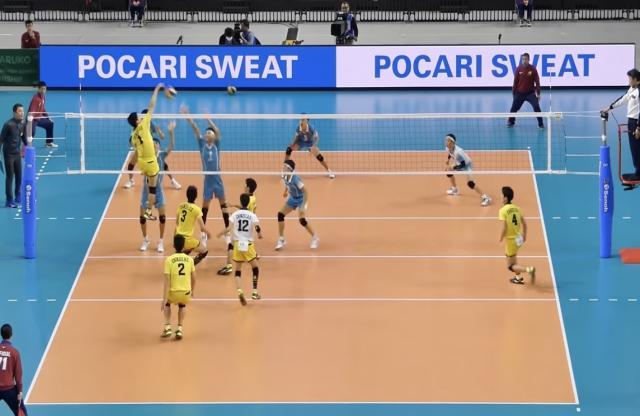spike: (128, 80, 176, 226)
